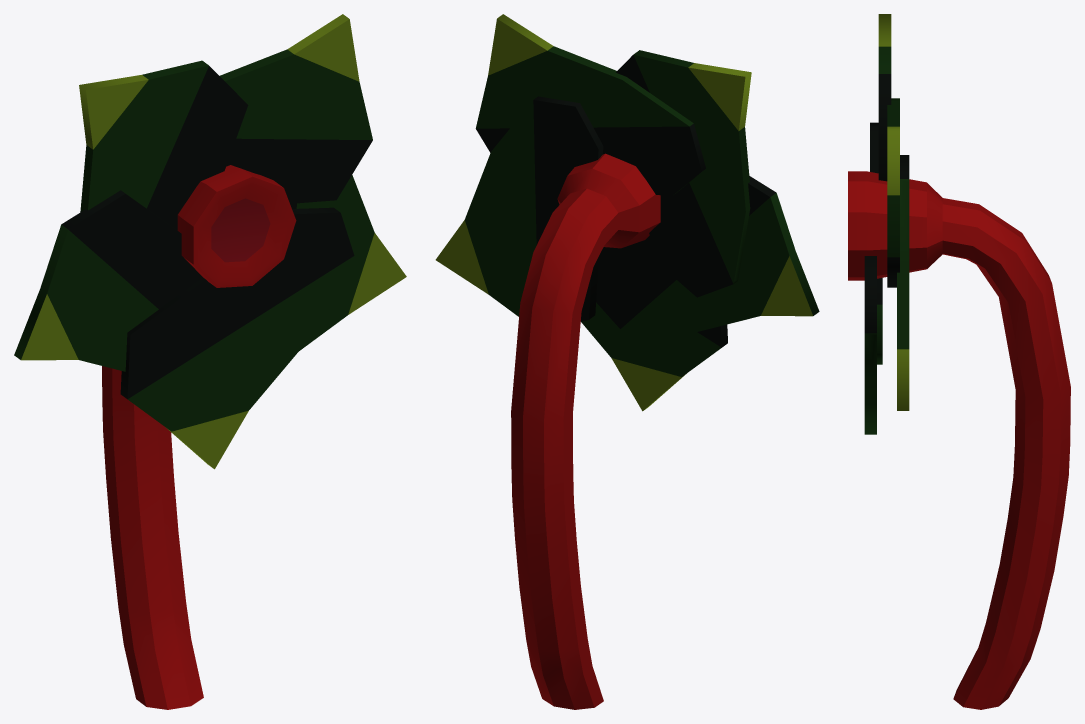
The model's file is rose.FBX.
3 renders of one model, left to right at view 1: azimuth 30°, elevation 25°; view 2: azimuth 150°, elevation 25°; view 3: azimuth 270°, elevation 25°, orthographic. The views are drawn at different scales.
Visible parts, largest first — view 1: Cylinder010; view 2: Cylinder010; view 3: Cylinder010.
Boxes of the visible parts, x1,y1,x2,y2 form: Cylinder010: [14, 14, 406, 709]; Cylinder010: [435, 14, 819, 709]; Cylinder010: [848, 14, 1070, 709].
Bounding box in the file's own units: 55.07 × 89.79 × 29.15.
